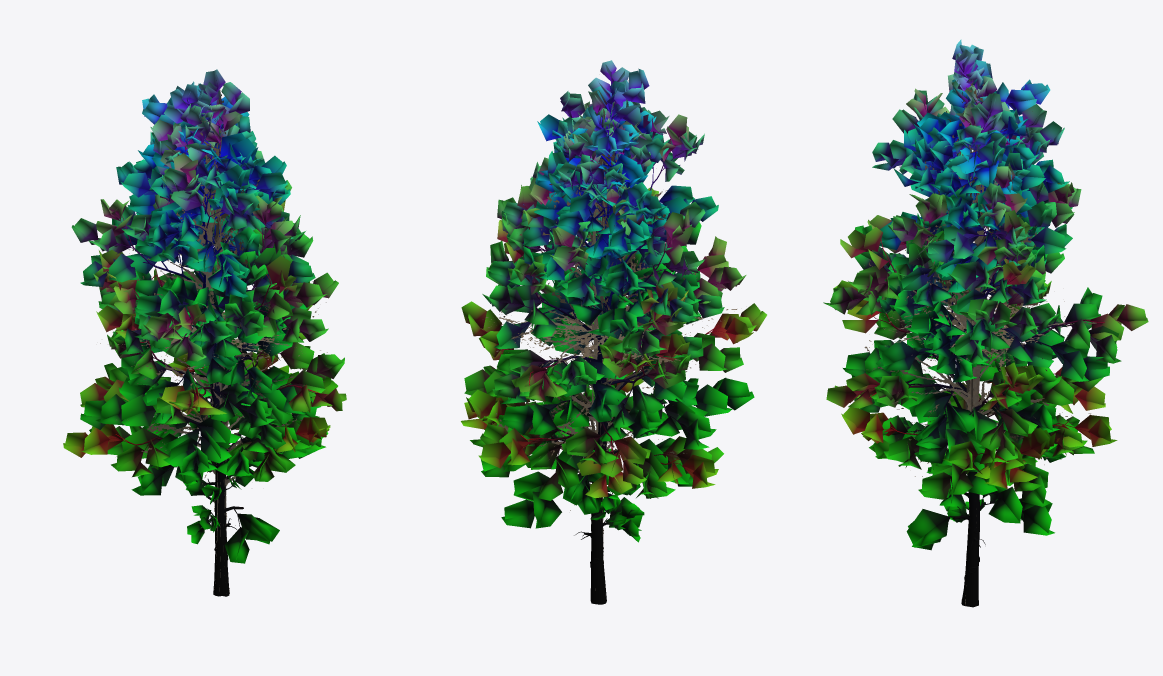
The model's file is Tree_Conifer_Dead.fbx.
3 renders of one model, left to right at view 1: azimuth 30°, elevation 25°; view 2: azimuth 150°, elevation 25°; view 3: azimuth 270°, elevation 25°, orthographic. The views are drawn at different scales.
Parts seen in each view (by area): view 1: LOD0, Billboard; view 2: LOD0, Billboard; view 3: LOD0, Billboard.
Boxes of the visible parts, x1,y1,x2,y2 form: LOD0: (63, 69, 346, 596); Billboard: (100, 90, 327, 593); LOD0: (461, 60, 766, 604); Billboard: (485, 74, 736, 596); LOD0: (823, 39, 1148, 607); Billboard: (861, 72, 1096, 605).
Size of what is drawn, in the model's own units: 0.5238 by 1.03 by 0.5556.
